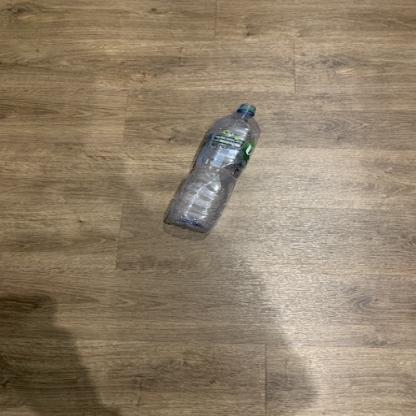trash: (164, 104, 262, 236)
